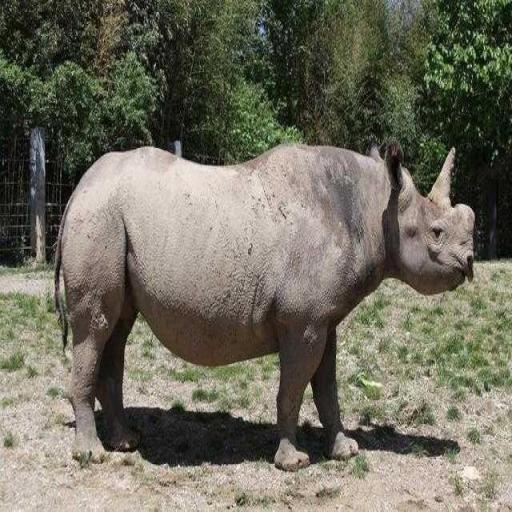Rhino: (52, 138, 475, 472)
